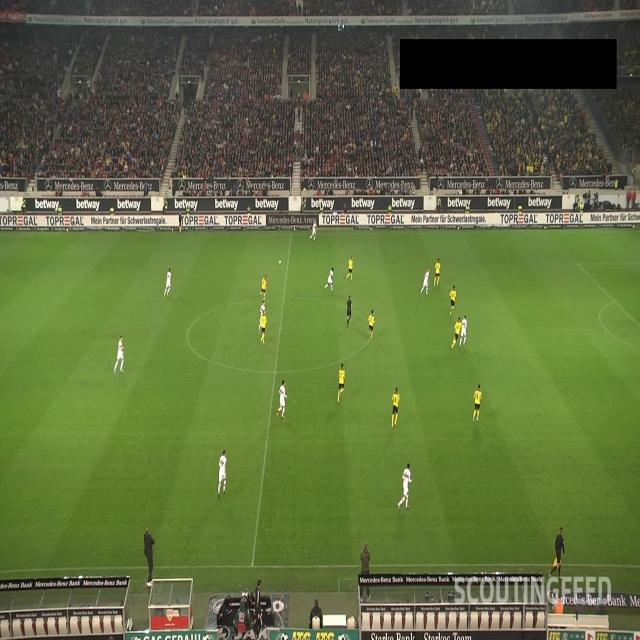ball: (278, 259, 282, 265)
